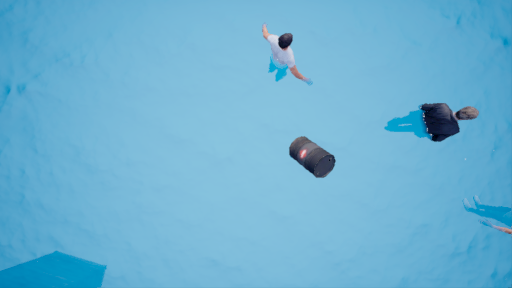person: (399, 100, 478, 156), (258, 22, 312, 85)
